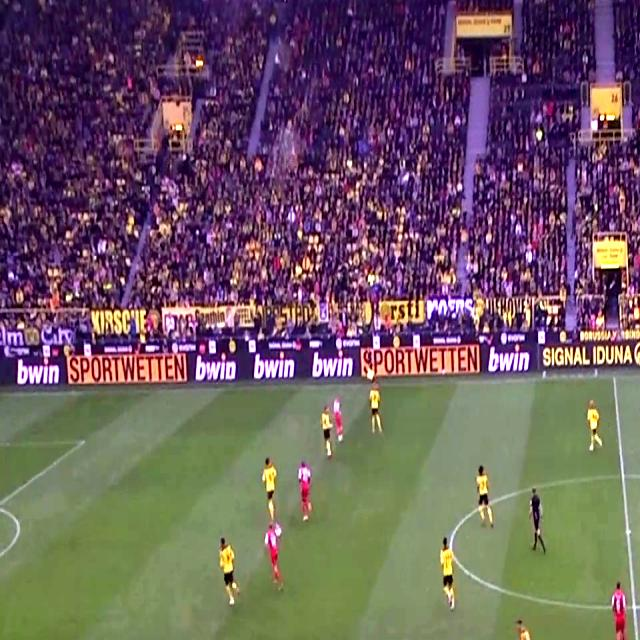referee: (525, 482, 556, 561)
soccer-player: (432, 531, 464, 615), (260, 518, 292, 600), (217, 533, 249, 614), (607, 580, 638, 640), (472, 462, 498, 533), (292, 460, 318, 528), (259, 455, 284, 523), (580, 398, 606, 460), (364, 378, 386, 441), (318, 392, 336, 462), (508, 614, 551, 640)
